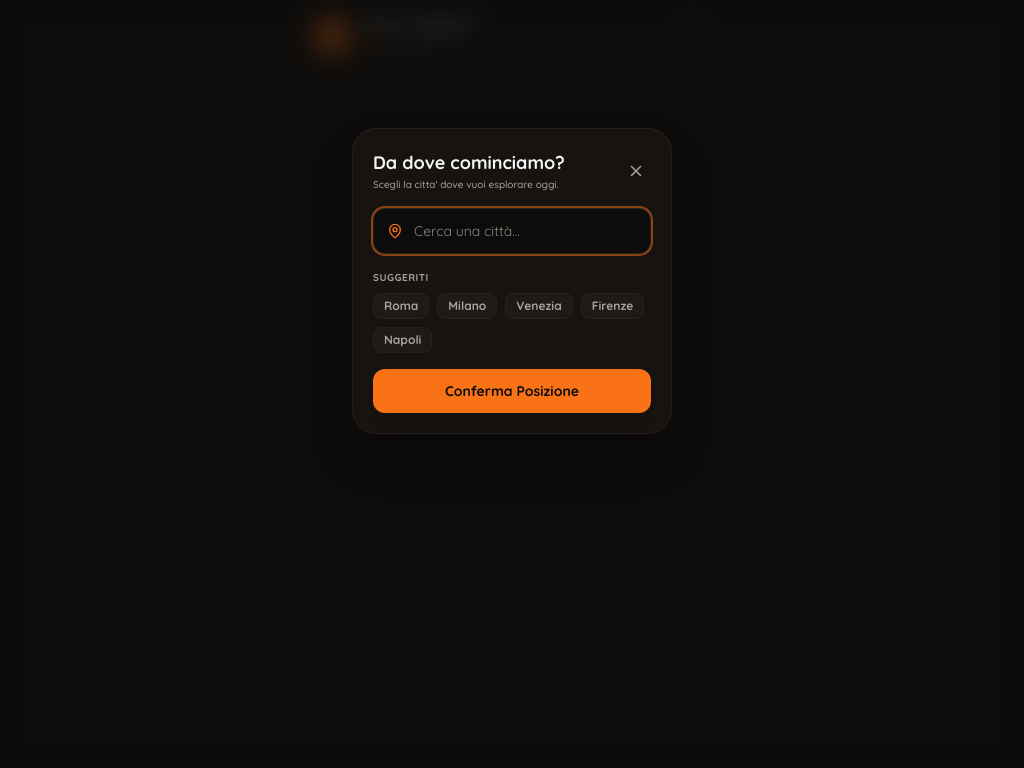
Scenario: Gate AA.2 — CityModal onboarding: una sola volta per sessione › se l'utente chiude cliccando il backdrop, al remount non si ripresenta
The image size is (1024, 768).
What coordinates should you click on to do the following:
click the element with class "backdrop-blur-md"
I would click on:
 (61, 384)
Its box is [0,0,1023,767].
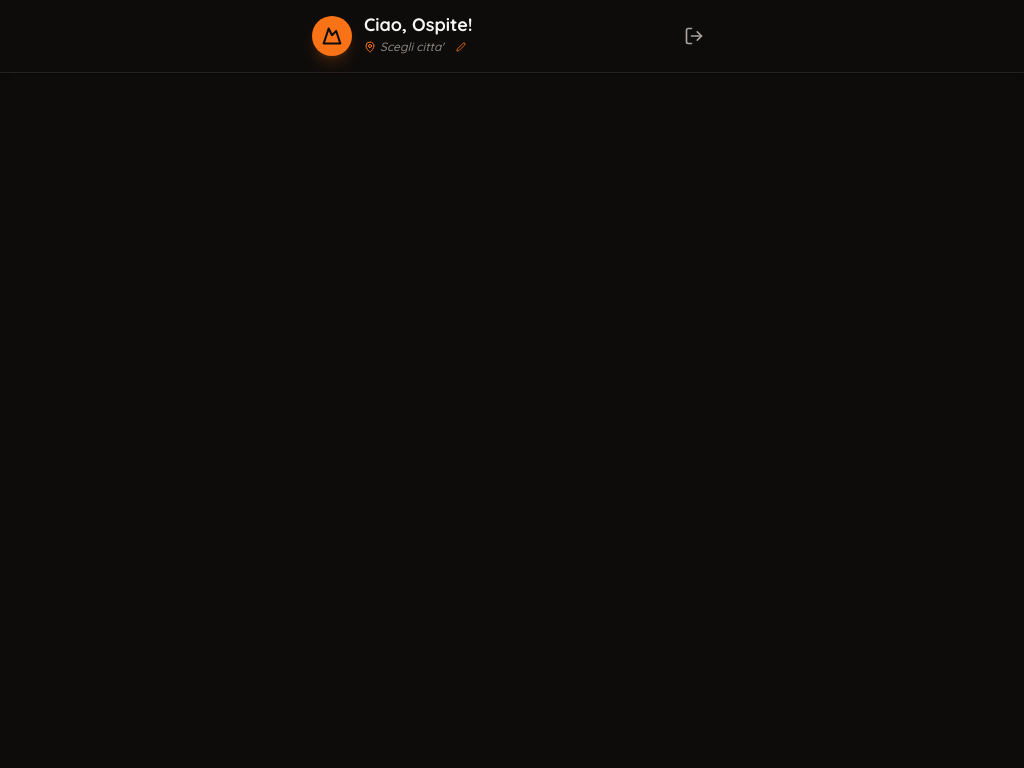
Check: the heading "Da dove cominciamo?" is gone
